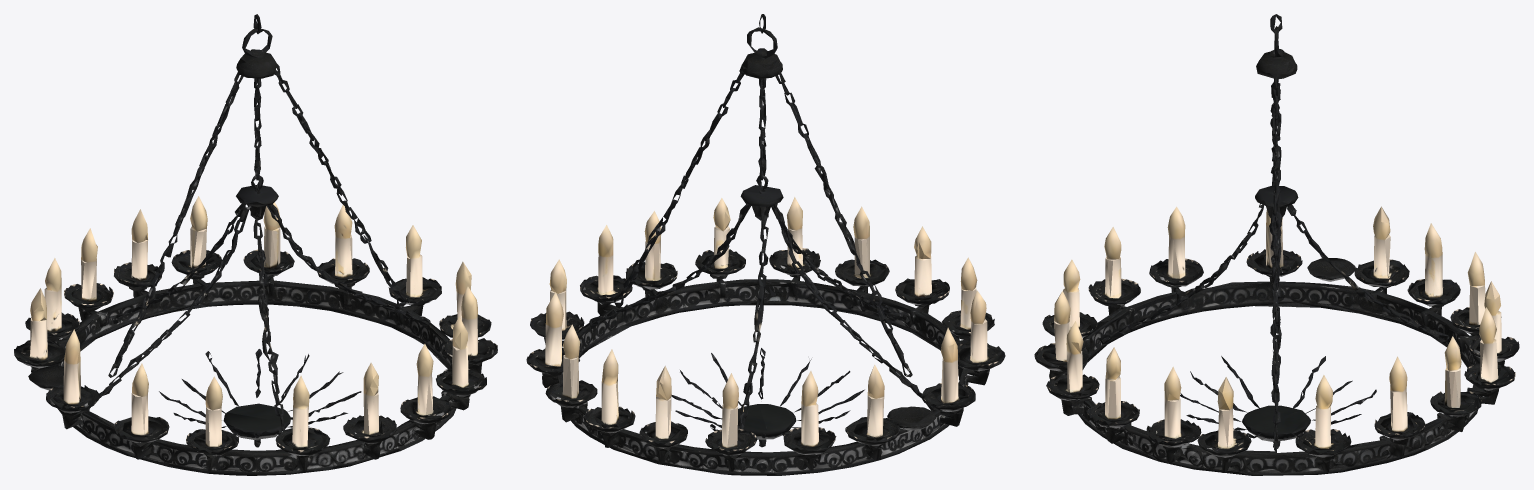
Rendered from Lustre.fbx.
3 renders of one model, left to right at view 1: azimuth 30°, elevation 25°; view 2: azimuth 150°, elevation 25°; view 3: azimuth 270°, elevation 25°, orthographic.
Visible parts, largest first — view 1: output_unwrapped; view 2: output_unwrapped; view 3: output_unwrapped.
Boxes of the visible parts, x1,y1,x2,y2 form: output_unwrapped: (14, 14, 497, 475); output_unwrapped: (526, 14, 1005, 475); output_unwrapped: (1034, 14, 1519, 475).
Bounding box in the file's own units: 179 × 178 × 180.
1 material, 1 textured.
